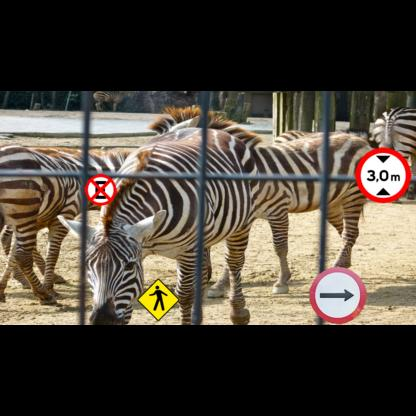A-32a: (137, 278, 180, 321)
R-15: (355, 147, 411, 203)
R-24a: (309, 266, 367, 324)
R-6c: (85, 174, 116, 206)
